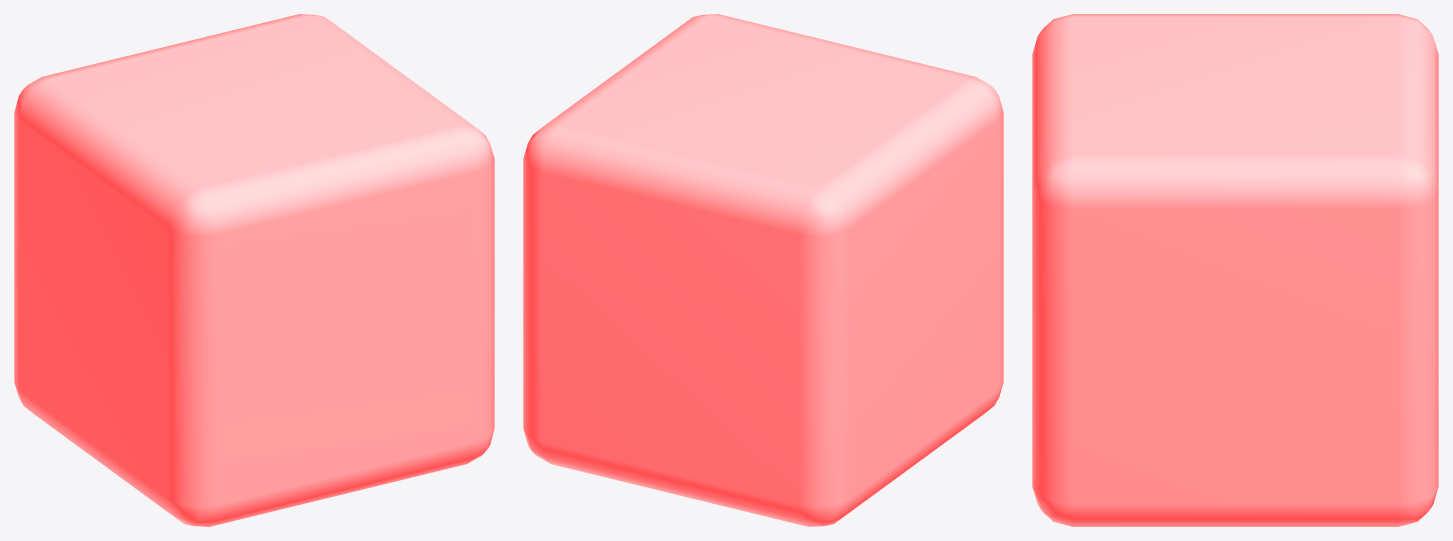
The model's file is firefly.glb.
3 renders of one model, left to right at view 1: azimuth 30°, elevation 25°; view 2: azimuth 150°, elevation 25°; view 3: azimuth 270°, elevation 25°, orthographic. The views are drawn at different scales.
Visible parts, largest first — view 1: Cube; view 2: Cube; view 3: Cube.
Boxes of the visible parts, left/top/right/bottom form: Cube: left=14, top=14, right=494, bottom=526; Cube: left=523, top=14, right=1003, bottom=526; Cube: left=1032, top=14, right=1438, bottom=526.
Size of the model in its own units: 1 by 1 by 1.
